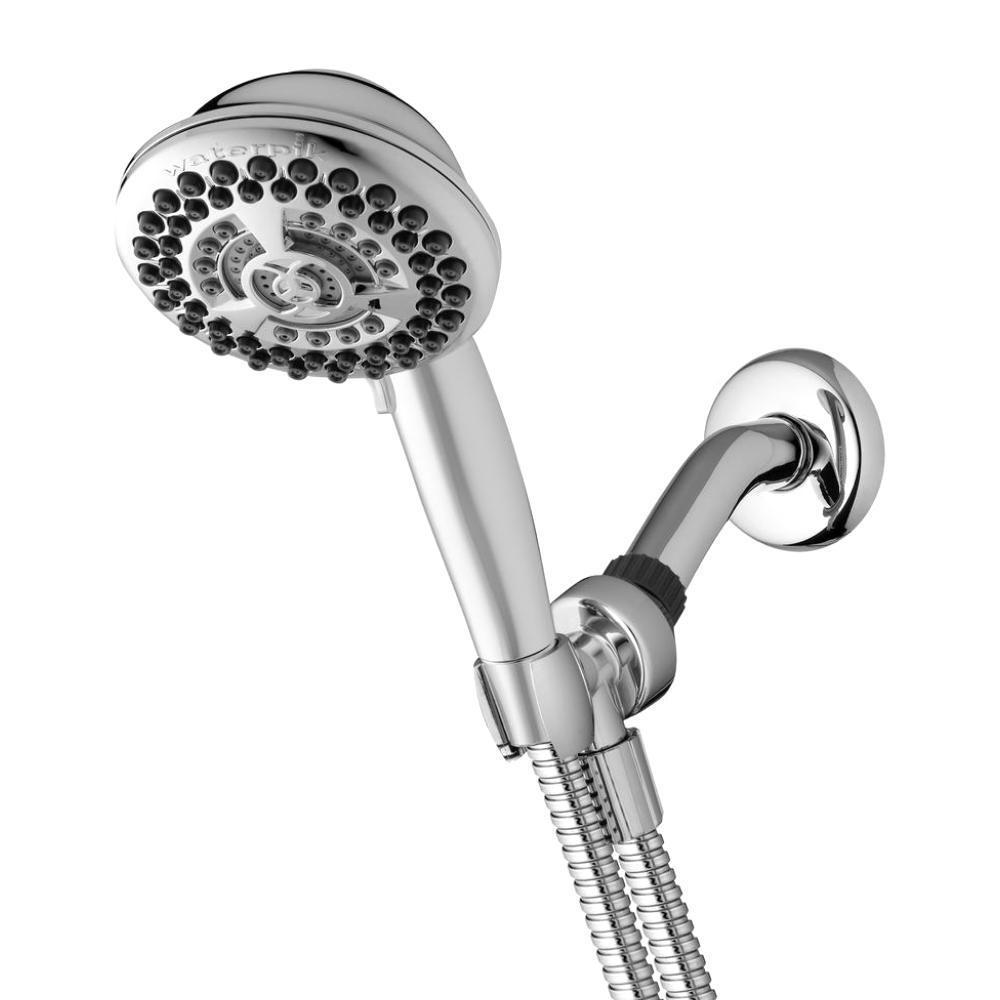Ducha: (113, 0, 1000, 1000)
